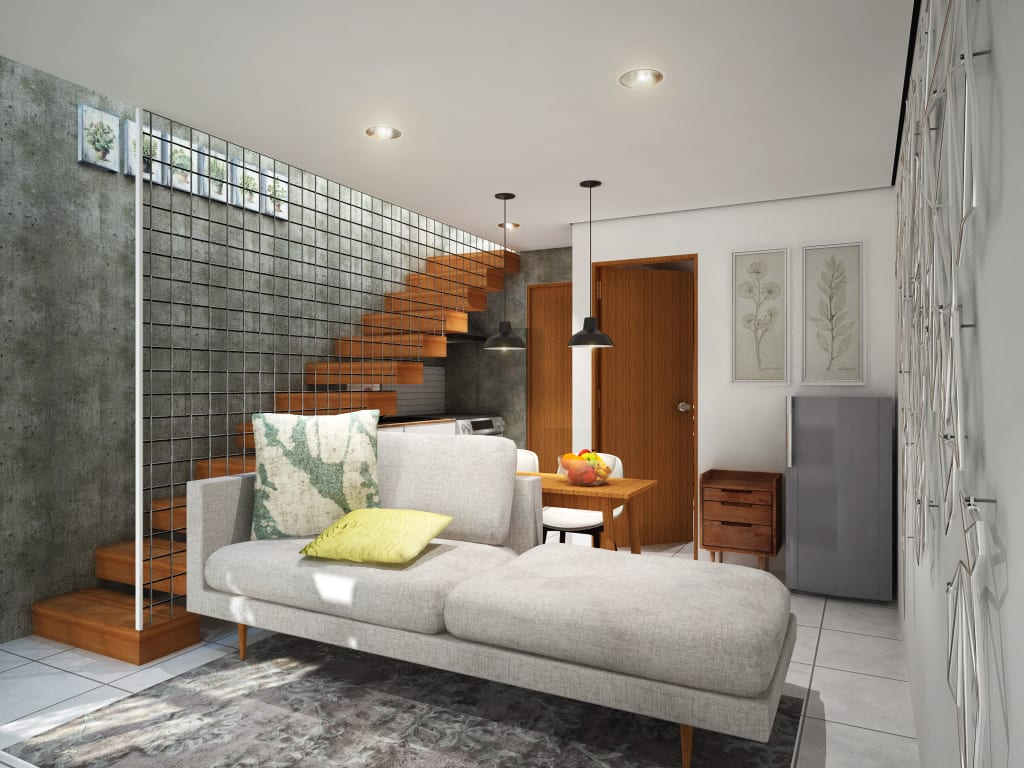lampu: (486, 183, 525, 354), (571, 177, 609, 352)
sova: (180, 438, 806, 745)
